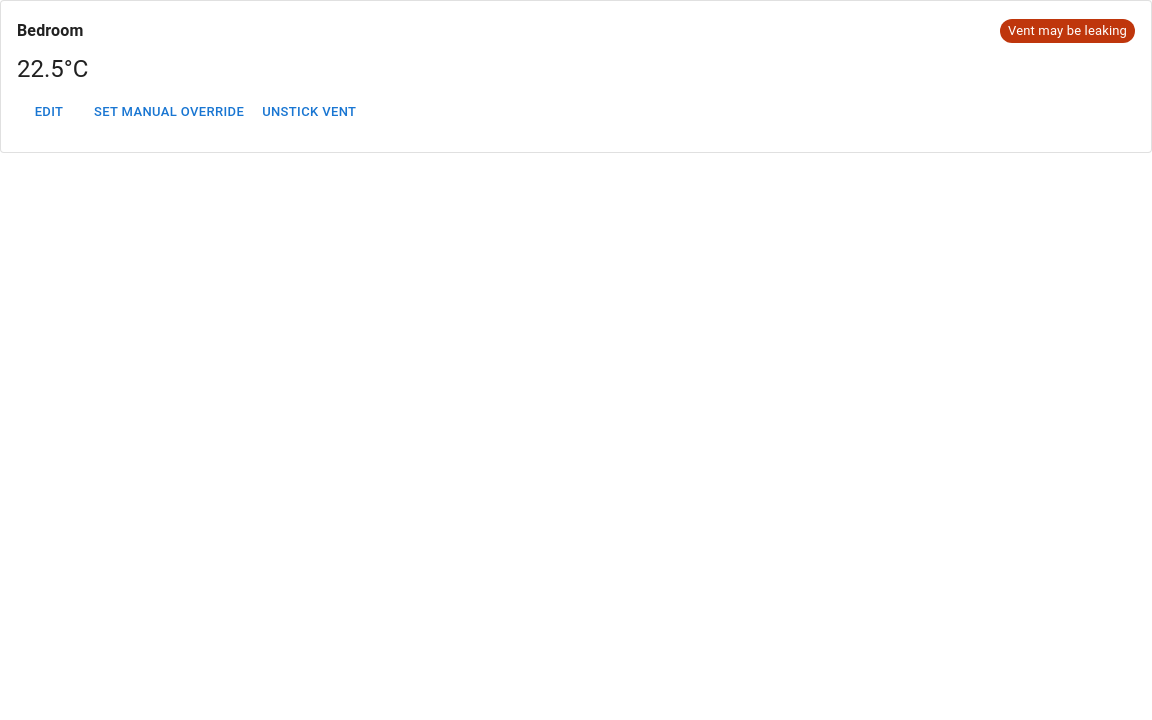
Test: ZoneCard › vent misalignment › shows the chronic badge when the zone is flagged, clickable for an admin
// Clicking opens the clear-warning confirm dialog.
Click the button "Vent may be leaking".
click(1068, 31)  # box [1000,19,1135,43]
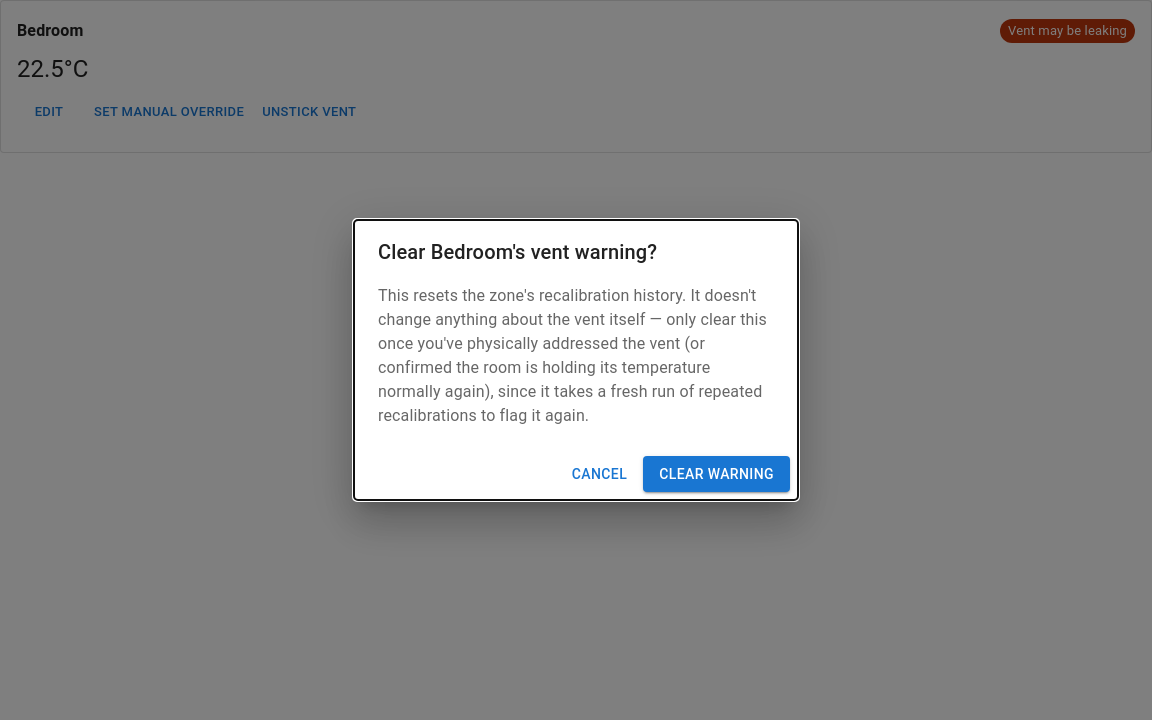
Expected: the heading "Clear Bedroom's vent warning?" is shown, [378,240,657,264]
